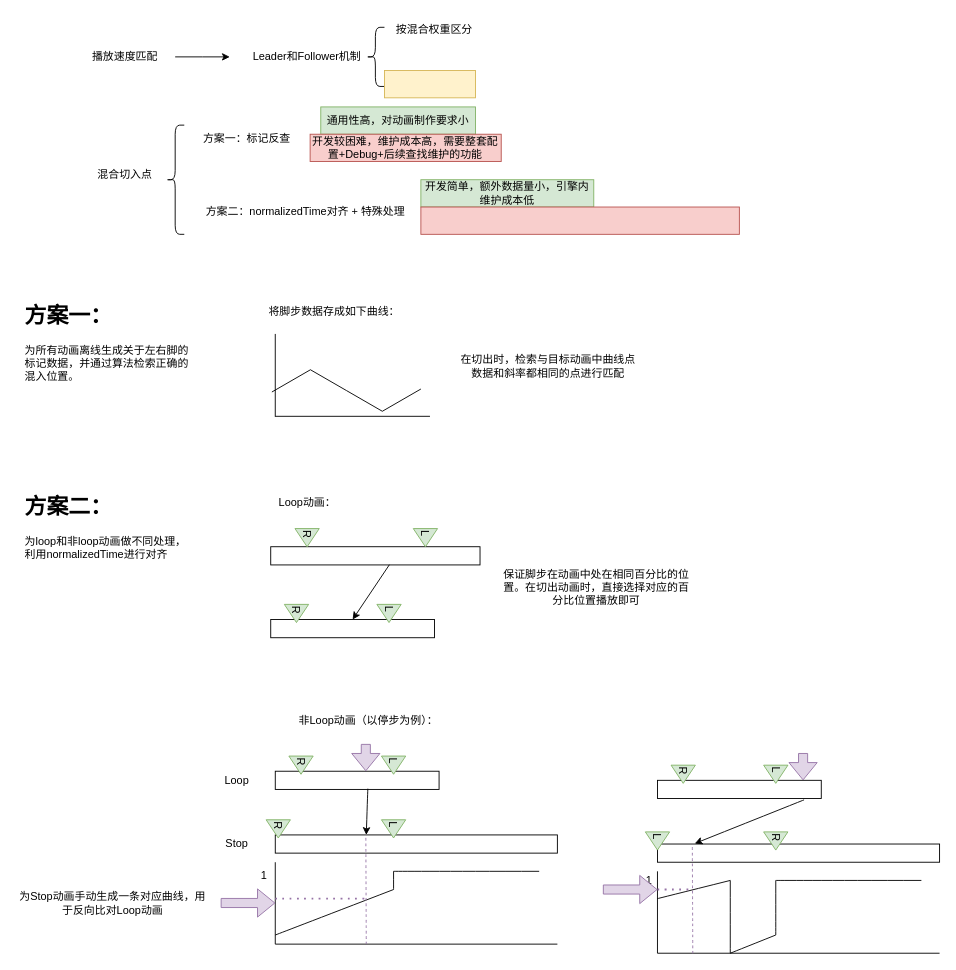
The diagram is 956 pixels wide and 970 high, and some of its shapes have lost their labels. The centre of each missing label's shape, as x and y in pixels:
"动画制作受限，对动画输出有一定要求标准，非Loop动画需要有专门的人负责处理" belongs at (x=579, y=220).
"手动配置" belongs at (x=429, y=84).
